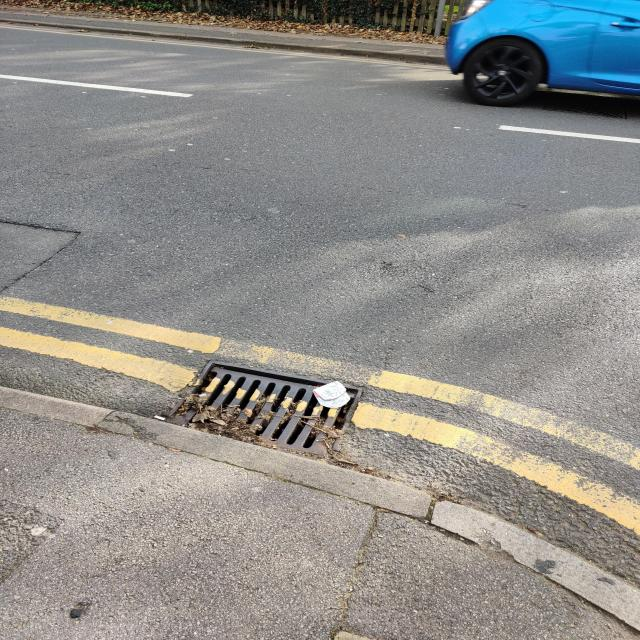litter: (311, 378, 352, 409), (153, 413, 167, 421)
